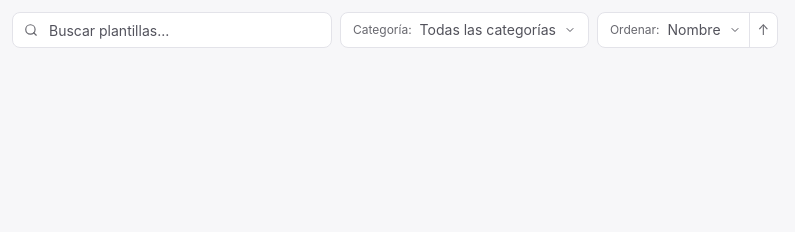
Scenario: TemplateFilters › trae las categorías y las ofrece en su menú
Click the button "Categoría: Todas las categorías".
click(464, 30)  # box [340, 12, 589, 48]
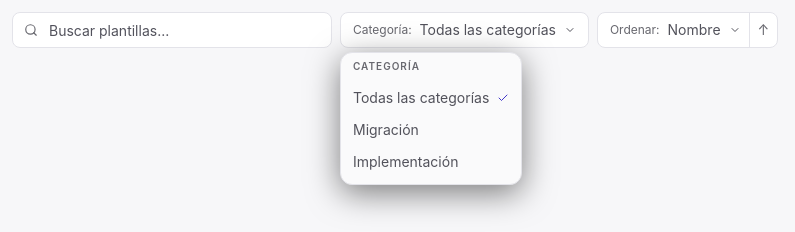
Expected: the text "Todas las categorías" is shown, [420, 20, 556, 40]
Expected: the button "Migración" is shown, [341, 114, 521, 146]
Expected: the button "Implementación" is shown, [341, 146, 521, 178]
